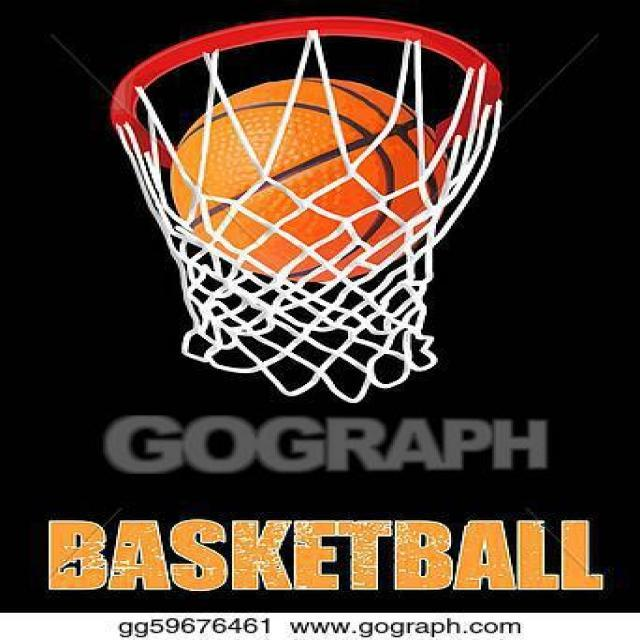Basketball: (170, 78, 448, 282)
hoop: (110, 18, 504, 404)
